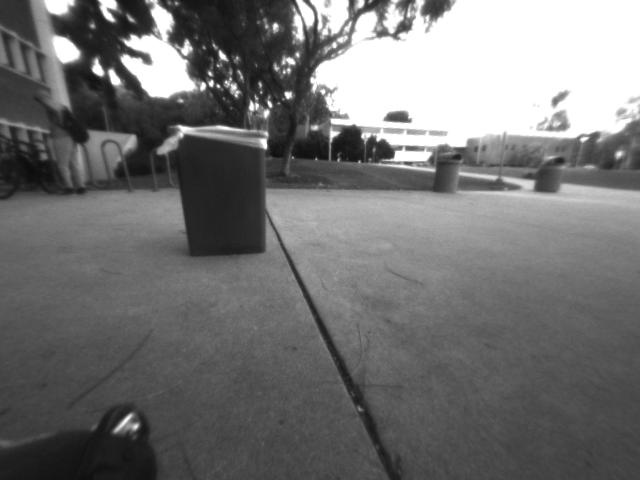trashcan: (160, 115, 281, 260)
